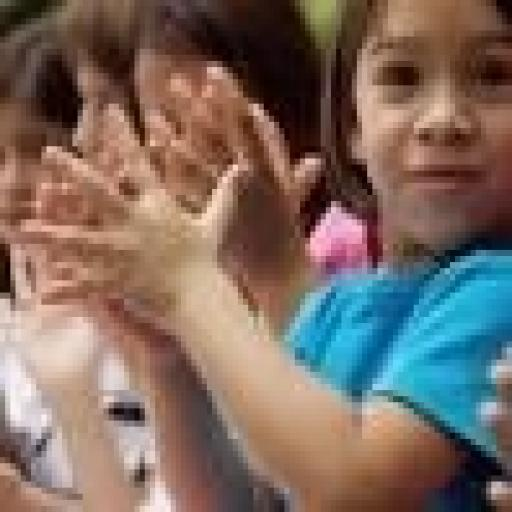clapping: (0, 0, 507, 506)
